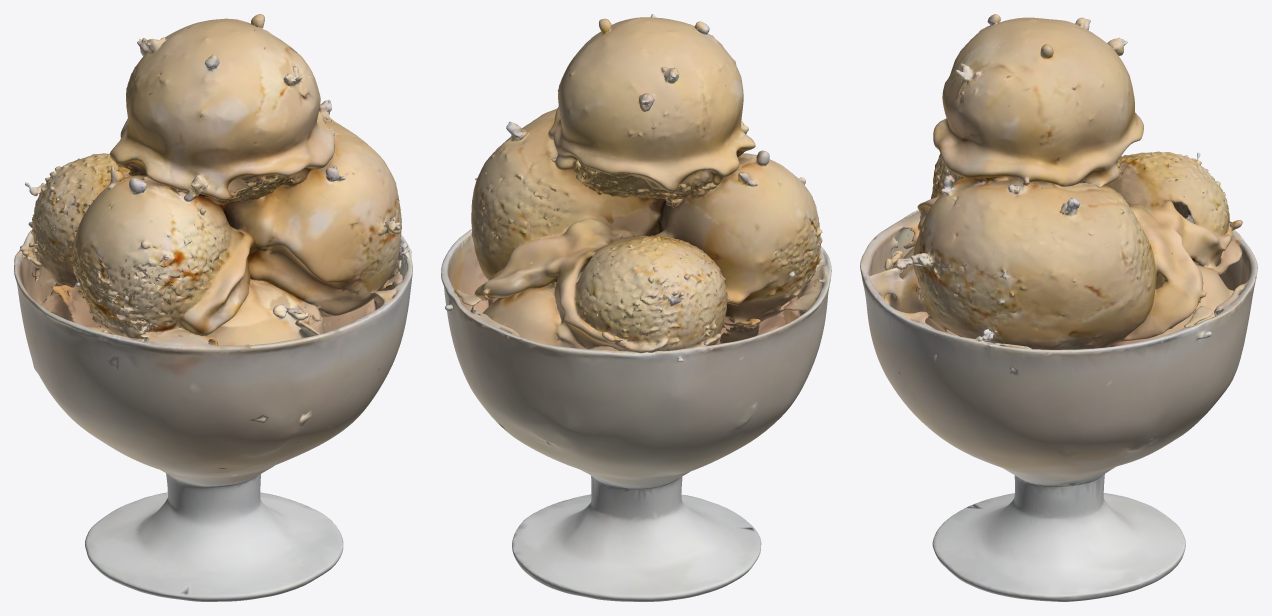
Rendered from Salted_Caramel.glb.
The picture shows the model from 3 angles, left to right: view 1: azimuth 30°, elevation 25°; view 2: azimuth 150°, elevation 25°; view 3: azimuth 270°, elevation 25°; orthographic projection. The views are drawn at different scales.
Bounding box in the file's own units: 1.27 × 1.85 × 1.27.
Materials: 1 (1 with a texture image).
